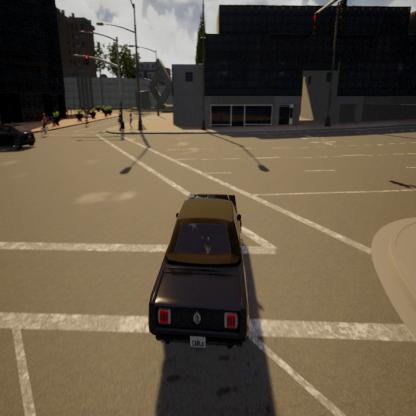Cars: (138, 174, 257, 368), (0, 108, 38, 153)
Pedestrian: (42, 106, 52, 150), (115, 108, 126, 138), (85, 102, 91, 138), (128, 106, 135, 136)
